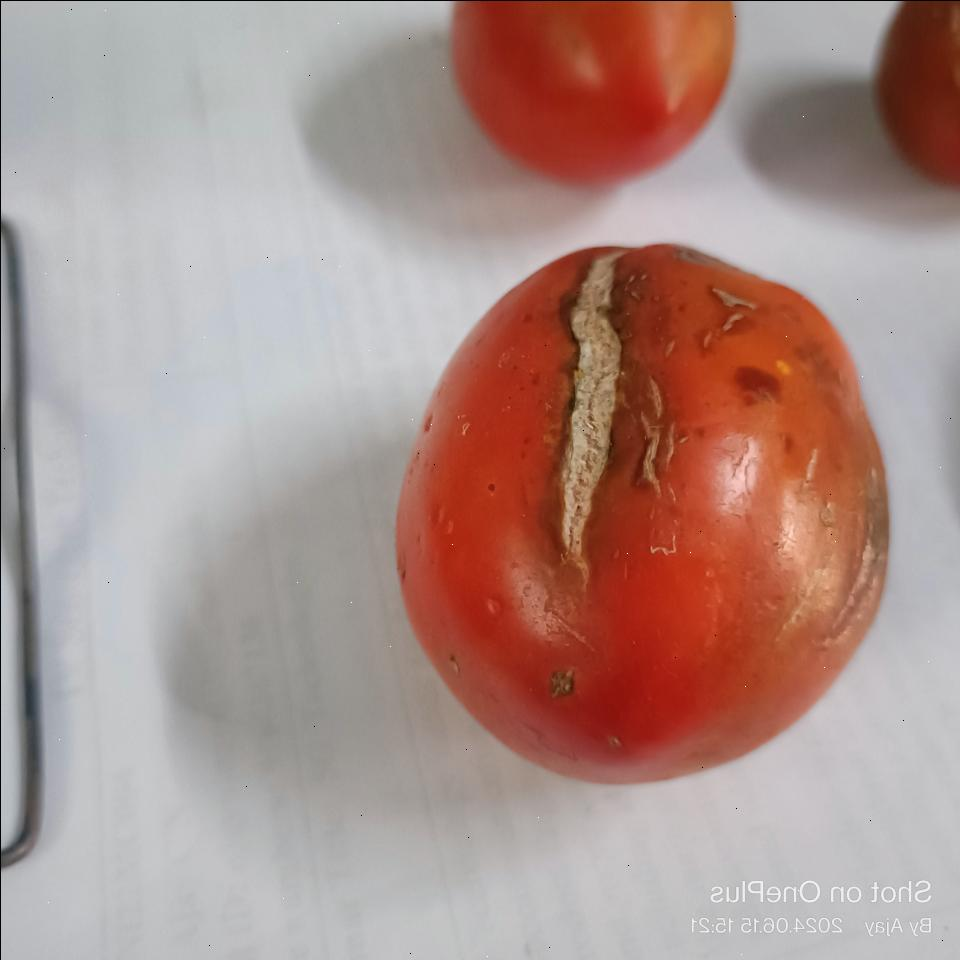Cracking: (541, 225, 627, 570)
